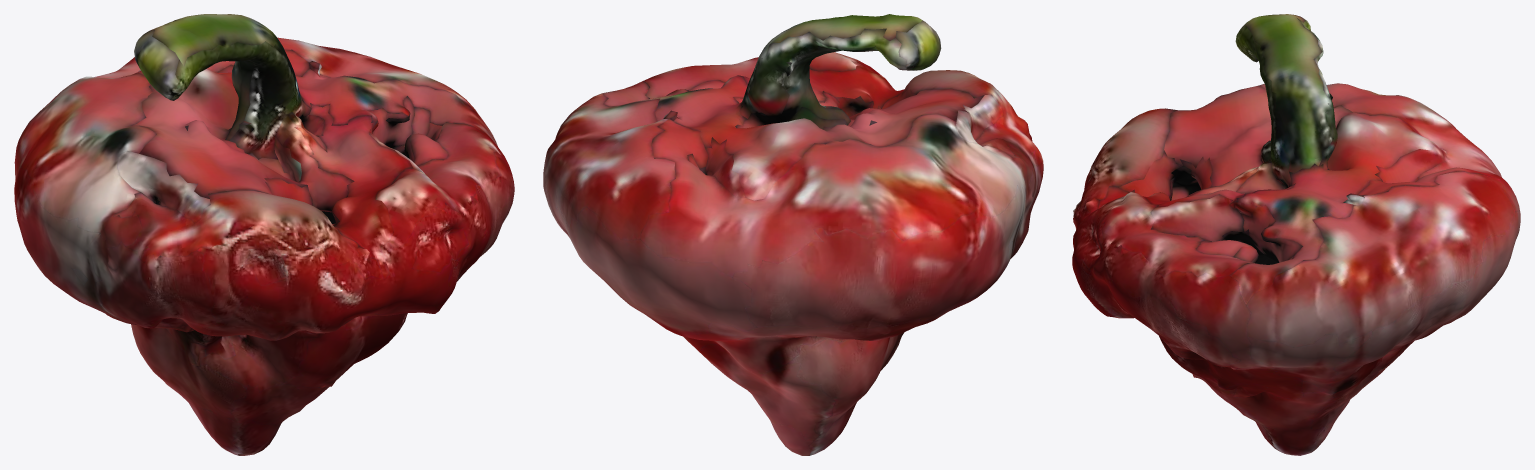
Rendered from redPepper.glb.
3 views of the same model, side by side, from view 1: azimuth 30°, elevation 25°; view 2: azimuth 150°, elevation 25°; view 3: azimuth 270°, elevation 25° (orthographic). The views are drawn at different scales.
Parts seen in each view (by area): view 1: model.obj; view 2: model.obj; view 3: model.obj.
Part boxes in pixels (x1,y1,x2,y2): model.obj: [14, 14, 514, 455]; model.obj: [543, 14, 1043, 455]; model.obj: [1072, 14, 1520, 455].
Bounding box in the file's own units: 1.07 × 1.04 × 1.06.
Materials: 1 (1 with a texture image).
